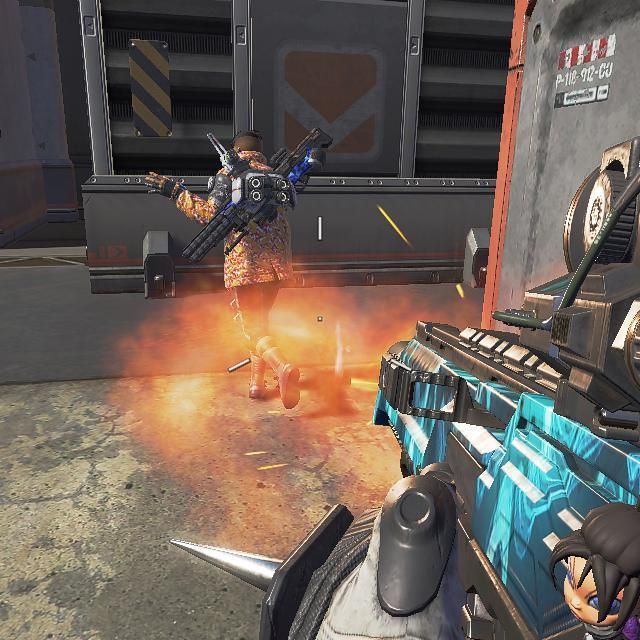avatar: (204, 127, 302, 412)
